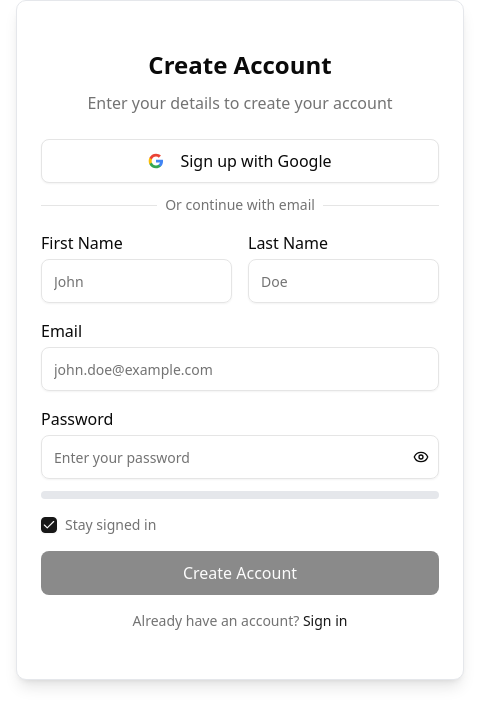
Test: RegistrationForm › shows error on failure
In the field labelled "First Name": (136, 281) [41,259,232,303], type "A"
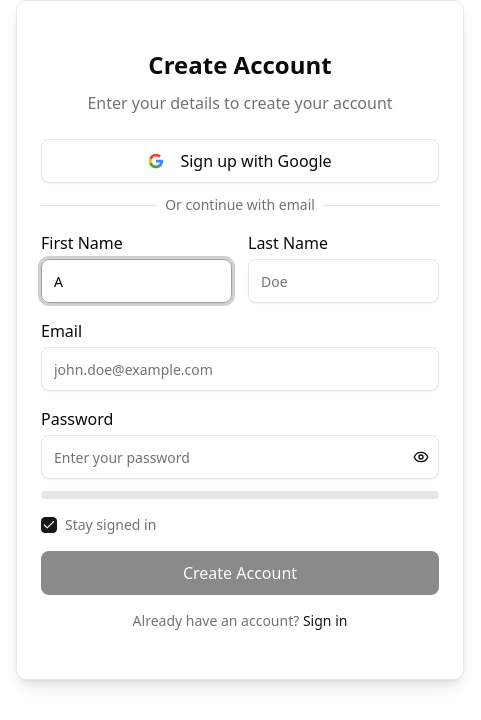
In the field labelled "Last Name": (344, 281) [248,259,439,303], type "B"
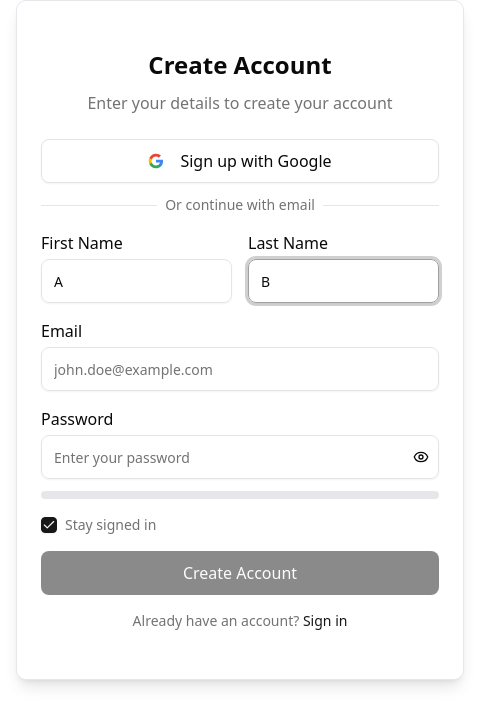
In the field labelled "Email": (240, 369) [41,347,439,391], type "a@b.com"
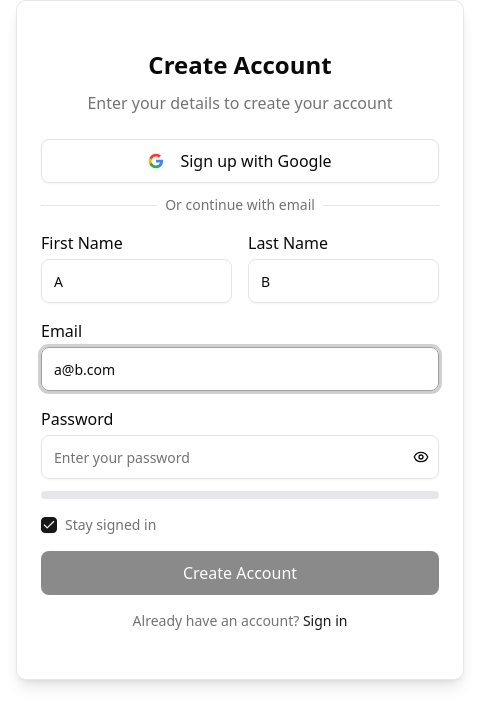
In the password field labelled "Password": (240, 457) [41,435,439,479], type "password"
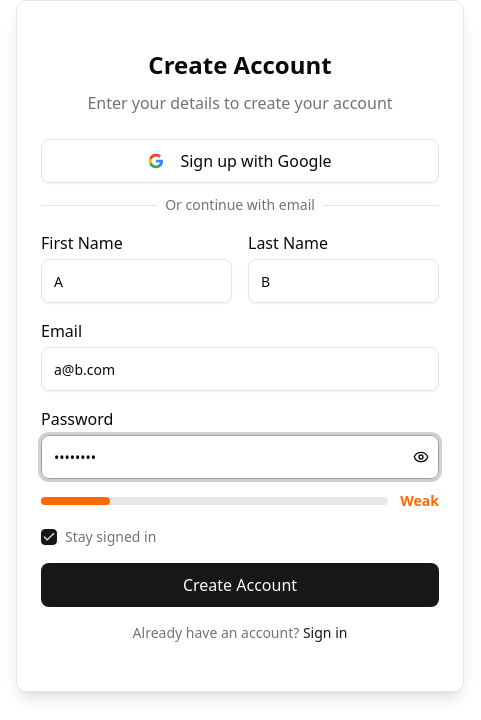
Click the button "Create Account": click(240, 585) [41,563,439,607]
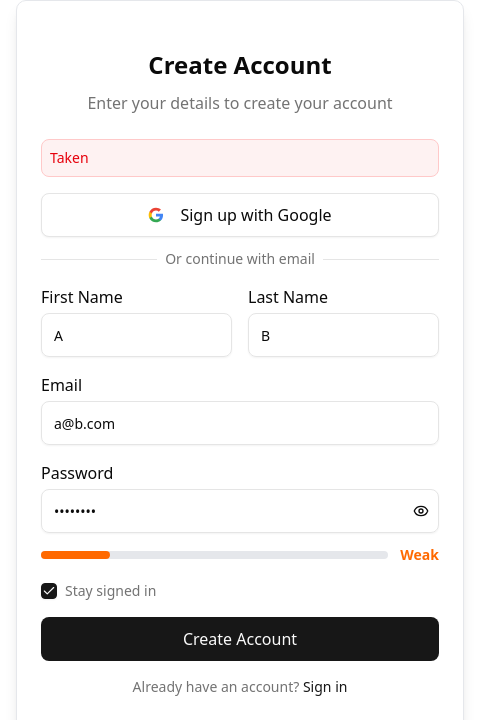
Expected: the text "Taken" is shown, [41,139,439,177]
